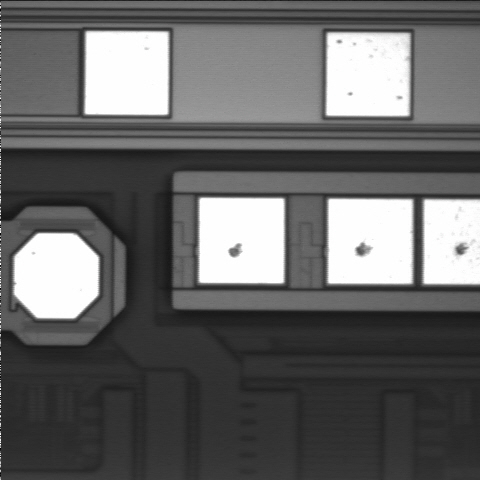pad: (199, 198, 284, 283), (14, 233, 99, 318), (328, 199, 412, 284), (85, 31, 168, 115), (326, 33, 409, 116)
